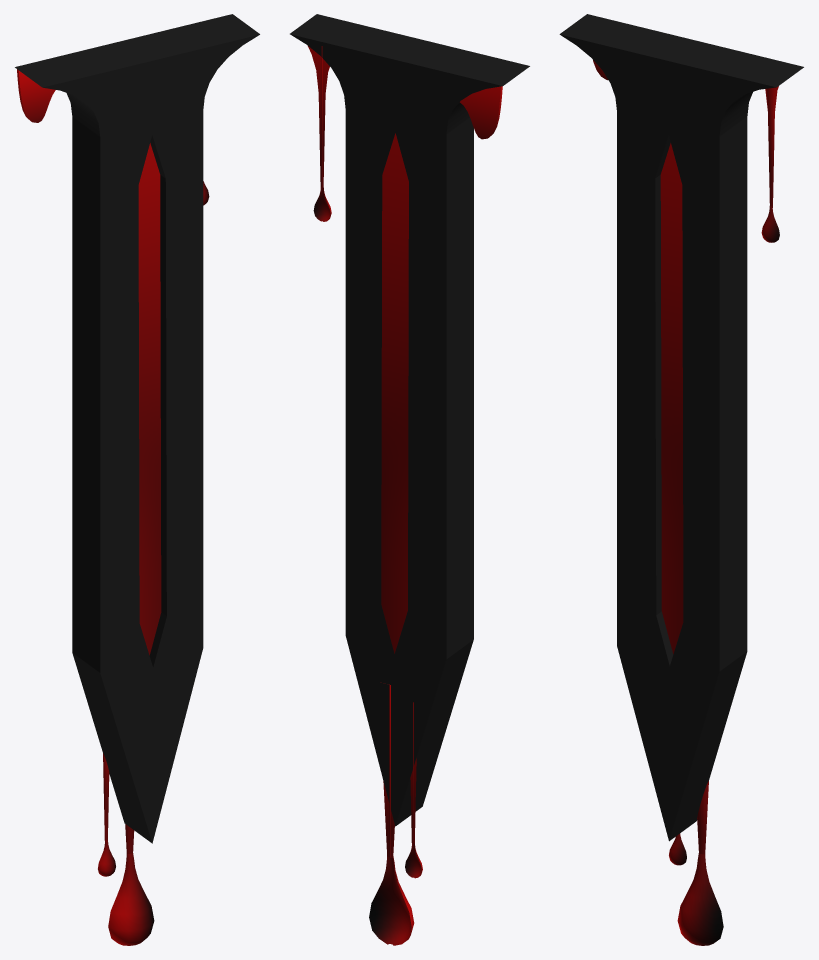
3 renders of one model, left to right at view 1: azimuth 30°, elevation 25°; view 2: azimuth 150°, elevation 25°; view 3: azimuth 330°, elevation 25°, orthographic. The views are drawn at different scales.
Parts seen in each view (by area): view 1: I, I_Element, Blood_216, Blood_207, Blood_209; view 2: I, I_Element, Blood_216, Blood_207, Blood_215, Blood_209; view 3: I, I_Element, Blood_216, Blood_215.
Part boxes in pixels (x1,y1,x2,y2): I: [15, 14, 259, 843]; I_Element: [138, 143, 161, 655]; Blood_216: [108, 824, 154, 945]; Blood_207: [17, 69, 55, 122]; Blood_209: [98, 753, 115, 876]; I: [290, 14, 529, 826]; I_Element: [381, 133, 408, 653]; Blood_216: [369, 684, 414, 945]; Blood_207: [460, 86, 502, 139]; Blood_215: [308, 46, 331, 221]; Blood_209: [405, 702, 422, 878]; I: [559, 14, 803, 841]; I_Element: [660, 143, 683, 653]; Blood_216: [677, 781, 723, 945]; Blood_215: [761, 86, 779, 242].
Bounding box in the file's own units: 22.54 × 89.4 × 5.04.
Materials: 2 (1 with a texture image).
